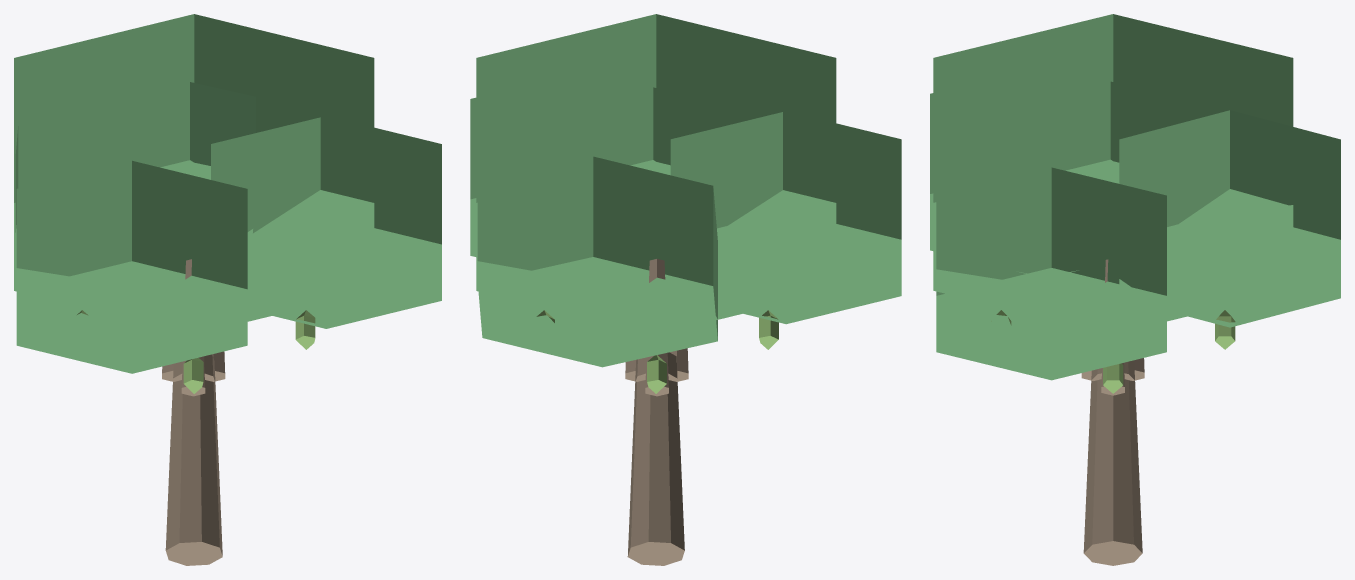
Rendered from flora_37_macadamia_integrifolia_cay_mac_ca_lam_ha_don_duong_tree.glb.
3 views of the same model, side by side, from view 1: azimuth 30°, elevation 25°; view 2: azimuth 150°, elevation 25°; view 3: azimuth 270°, elevation 25° (orthographic).
Parts seen in each view (by area): view 1: flora_37_macadamia_integrifolia_cay_mac_ca_lam_ha_don_duong_; view 2: flora_37_macadamia_integrifolia_cay_mac_ca_lam_ha_don_duong_; view 3: flora_37_macadamia_integrifolia_cay_mac_ca_lam_ha_don_duong_.
Part boxes in pixels (<box>): flora_37_macadamia_integrifolia_cay_mac_ca_lam_ha_don_duong_: <box>14,14,441,565</box>; flora_37_macadamia_integrifolia_cay_mac_ca_lam_ha_don_duong_: <box>470,14,901,565</box>; flora_37_macadamia_integrifolia_cay_mac_ca_lam_ha_don_duong_: <box>930,14,1340,565</box>.
Size of the model in its own units: 4.02 by 4.7 by 3.34.
